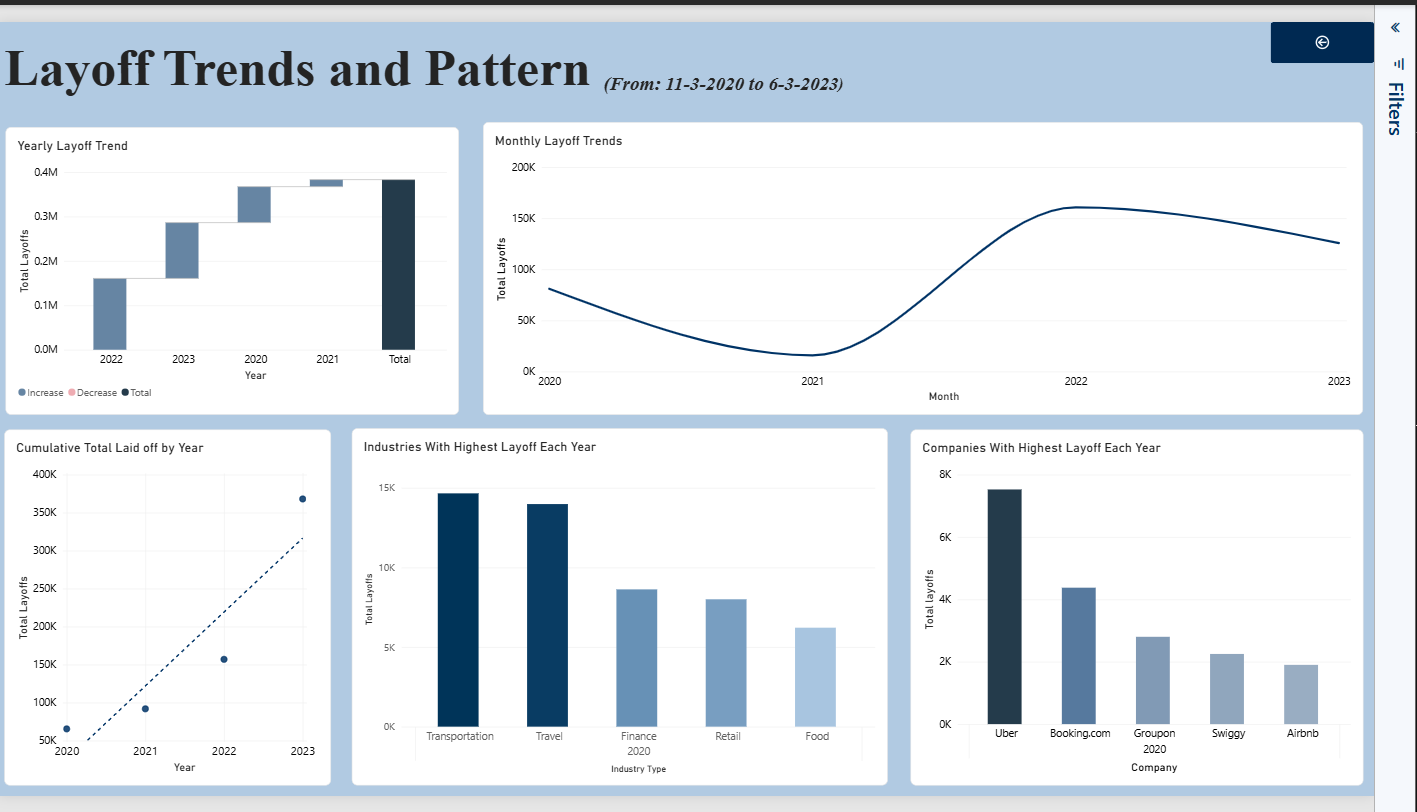

This screenshot's page, from the dashboard's own definition file:
{"tool":"powerbi","page":{"name":"Page 2","canvas":[1920,1080],"ordinal":1},"visuals":[{"type":"textbox","box":[9.2,22.1,1216.6,110.4],"z":0},{"type":"lineChart","title":"Monthly Layoff Trends","fields":{"Category":["world_layoffs vw_monthly_layoff_trends.year","world_layoffs vw_monthly_layoff_trends.month"],"Y":["Sum(world_layoffs vw_monthly_layoff_trends.sum(total_laid_off))"]},"box":[677.3,139.9,1227.6,408.6],"z":1000},{"type":"scatterChart","title":"Cumulative Total Laid off by Year","fields":{"X":["world_layoffs vw_cumulative_layoffs.year\\month.Variation.Date Hierarchy.Year"],"Y":["Avg(world_layoffs vw_cumulative_layoffs.rolling_total_laid_off)"]},"box":[8.5,568.3,456.3,496.5],"z":2000},{"type":"waterfallChart","title":"Yearly Layoff Trend ","fields":{"Category":["world_layoffs vw_yearly_layoff_trends.year(`date`)"],"Y":["Sum(world_layoffs vw_yearly_layoff_trends.sum(total_laid_off))"]},"box":[11,147.2,633.1,401.2],"z":3000},{"type":"clusteredColumnChart","title":"Companies With Highest Layoff Each Year","fields":{"Category":["world_layoffs vw_top5_companies_by_year.years","world_layoffs vw_top5_companies_by_year.company"],"Y":["Sum(world_layoffs vw_top5_companies_by_year.total_laid_off)"]},"box":[1273.9,568.3,631.7,496.5],"z":4000},{"type":"clusteredColumnChart","title":"Industries With Highest Layoff Each Year ","fields":{"Category":["world_layoffs vw_top5_industries_by_year.years","world_layoffs vw_top5_industries_by_year.industry"],"Y":["Sum(world_layoffs vw_top5_industries_by_year.total_laid_off)"]},"box":[494.4,566.2,747.9,498.6],"z":5000},{"type":"actionButton","box":[1820.3,92,100,40],"z":5001}]}

Visuals, with their boxes on the page's 1920x1080 design canvas (x1, y1, x2, y2). These are canvas units, not pixel positions in the 1417x812 screenshot, which may show the page scaled, cropped or inside an application window:
textbox: select_region(9, 22, 1226, 132)
"Monthly Layoff Trends" lineChart: select_region(677, 140, 1905, 548)
"Cumulative Total Laid off by Year" scatterChart: select_region(8, 568, 465, 1065)
"Yearly Layoff Trend " waterfallChart: select_region(11, 147, 644, 548)
"Companies With Highest Layoff Each Year" clusteredColumnChart: select_region(1274, 568, 1906, 1065)
"Industries With Highest Layoff Each Year " clusteredColumnChart: select_region(494, 566, 1242, 1065)
actionButton: select_region(1820, 92, 1920, 132)
